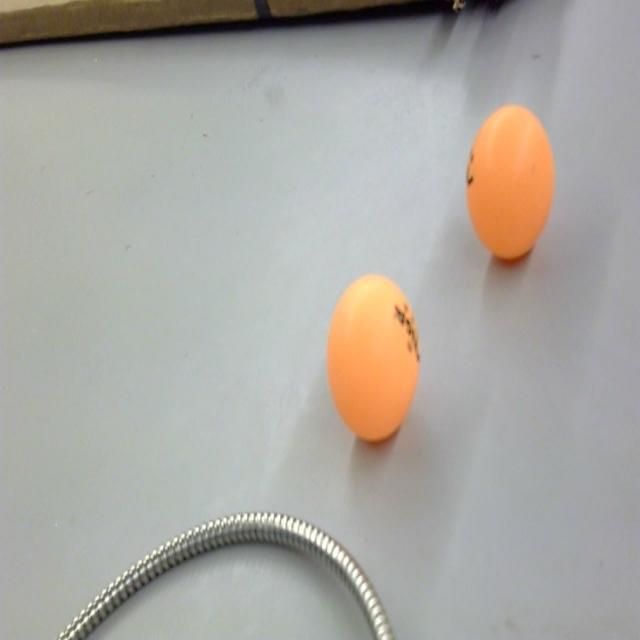ball: (326, 276, 421, 448), (465, 105, 557, 266)
